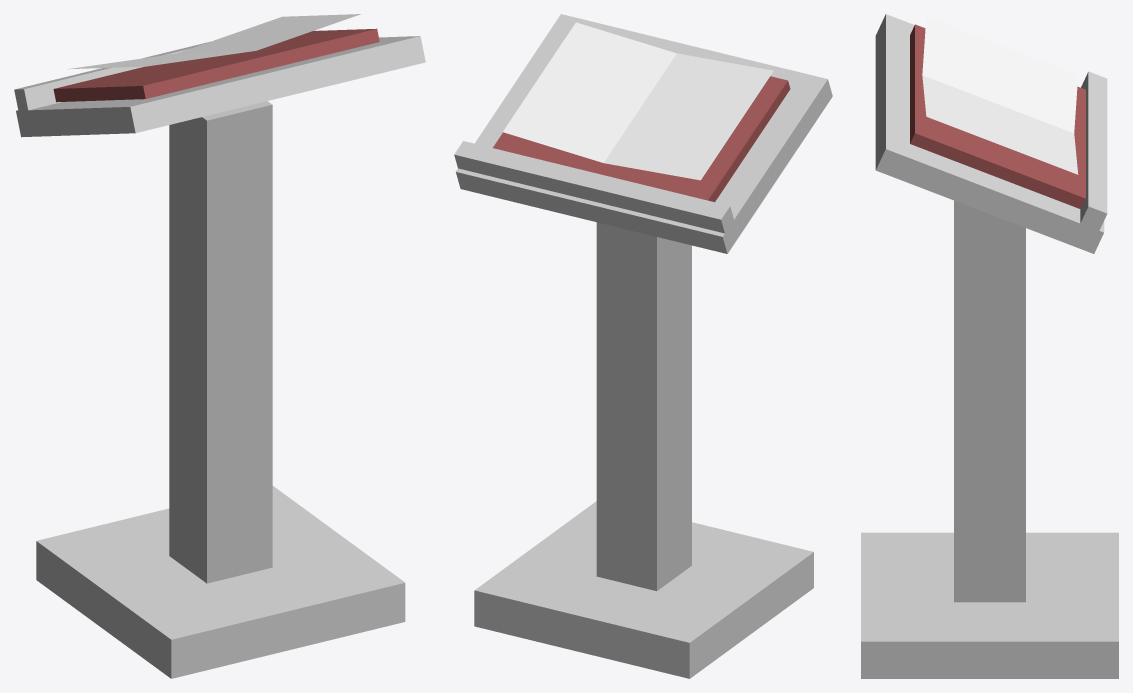
Rendered from lectern.glb.
The picture shows the model from 3 angles, left to right: view 1: azimuth 30°, elevation 25°; view 2: azimuth 150°, elevation 25°; view 3: azimuth 270°, elevation 25°; orthographic projection. The views are drawn at different scales.
Parts seen in each view (by area): view 1: Lectern; view 2: Lectern; view 3: Lectern.
Boxes of the visible parts, x1,y1,x2,y2 form: Lectern: (14, 14, 425, 678); Lectern: (454, 14, 832, 678); Lectern: (861, 14, 1118, 678).
Bounding box in the file's own units: 0.62 × 1.19 × 0.5.
